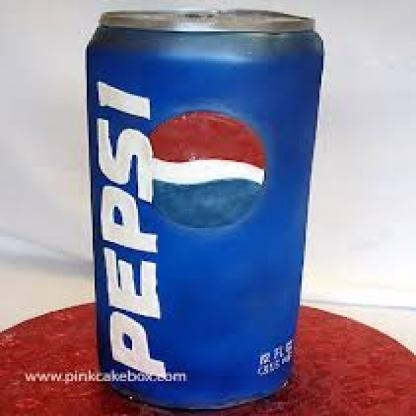trash: (87, 10, 322, 408)
